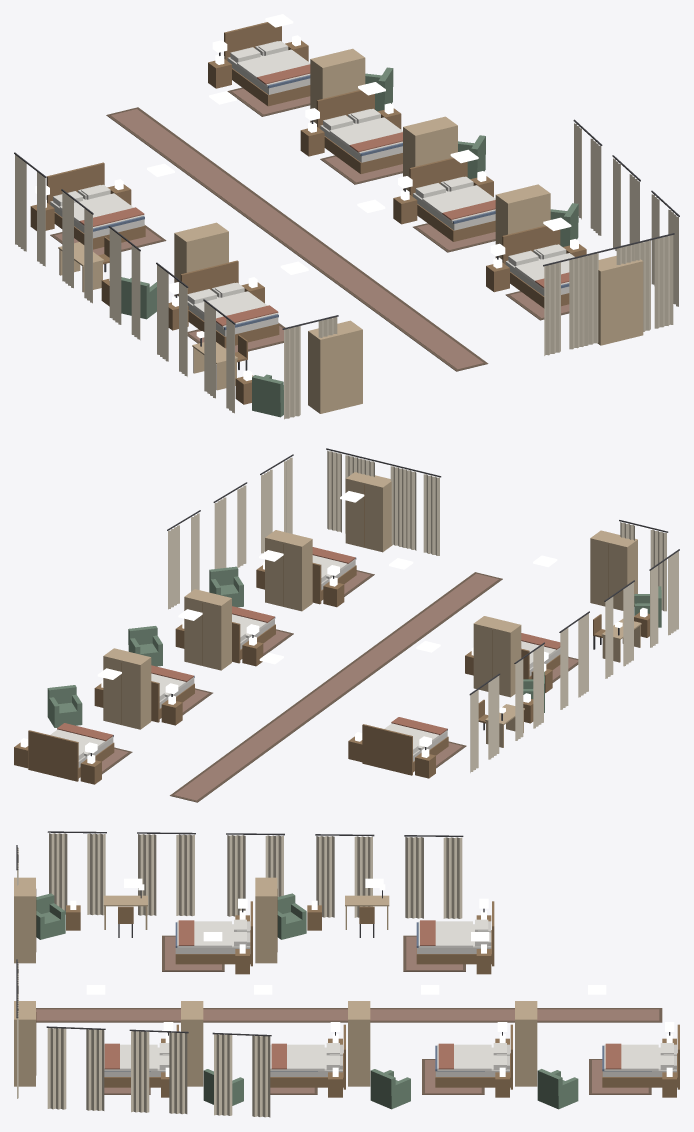
Rendered from fine-s1.glb.
3 renders of one model, top to bottom at view 1: azimuth 30°, elevation 25°; view 2: azimuth 150°, elevation 25°; view 3: azimuth 270°, elevation 25°, orthographic. The views are drawn at different scales.
Parts seen in each view (by area): view 1: soft-s1, dresser.001, dresser.005, bed-frame.004, bed-frame.003, bed-frame.002, bed-frame.001, bed-frame.000, dresser.004, dresser.002, dresser.000, dresser.003 (+12 smaller); view 2: soft-s1, dresser.002, dresser.004, dresser.003, dresser.005, dresser.000, dresser.001, bed-frame.000, bed-frame.002, lounge-chair.002, lounge-chair.004, lounge-chair.003 (+8 smaller); view 3: soft-s1, dresser.000, dresser.002, dresser.003, dresser.001, dresser.005, dresser.004, bed-frame.000, bed-frame.002, bed-frame.003, bed-frame.001, lounge-chair.002 (+9 smaller).
Part boxes in pixels (x1,y1,x2,y2): soft-s1: (14, 40, 679, 419); dresser.001: (308, 320, 362, 413); dresser.005: (597, 255, 643, 345); bed-frame.004: (409, 157, 495, 241); bed-frame.003: (316, 90, 402, 173); bed-frame.002: (224, 22, 310, 106); bed-frame.001: (180, 260, 279, 347); bed-frame.000: (46, 162, 145, 249); dresser.004: (495, 184, 550, 259); dresser.002: (310, 48, 365, 123); dresser.000: (174, 222, 228, 296); dresser.003: (403, 116, 457, 191); soft-s1: (50, 448, 679, 802); dresser.002: (103, 648, 151, 729); dresser.004: (265, 530, 312, 611); dresser.003: (184, 589, 231, 670); dresser.005: (345, 472, 392, 552); dresser.000: (473, 616, 521, 697); dresser.001: (590, 530, 637, 610); bed-frame.000: (362, 724, 448, 775); bed-frame.002: (28, 730, 114, 781); lounge-chair.002: (47, 685, 82, 727); lounge-chair.004: (209, 566, 243, 607); lounge-chair.003: (128, 626, 162, 666); soft-s1: (16, 831, 675, 1117); dresser.000: (255, 877, 277, 963); dresser.002: (515, 1001, 537, 1086); dresser.003: (348, 1001, 370, 1086); dresser.001: (14, 877, 36, 963); dresser.005: (14, 1001, 36, 1086); dresser.004: (181, 1001, 203, 1086); bed-frame.000: (416, 901, 494, 966); bed-frame.002: (602, 1024, 679, 1089); bed-frame.003: (435, 1024, 512, 1089); bed-frame.001: (175, 901, 252, 966); lounge-chair.002: (537, 1069, 578, 1109).
Size of the model in its own units: 13.09 by 2.51 by 18.04.
